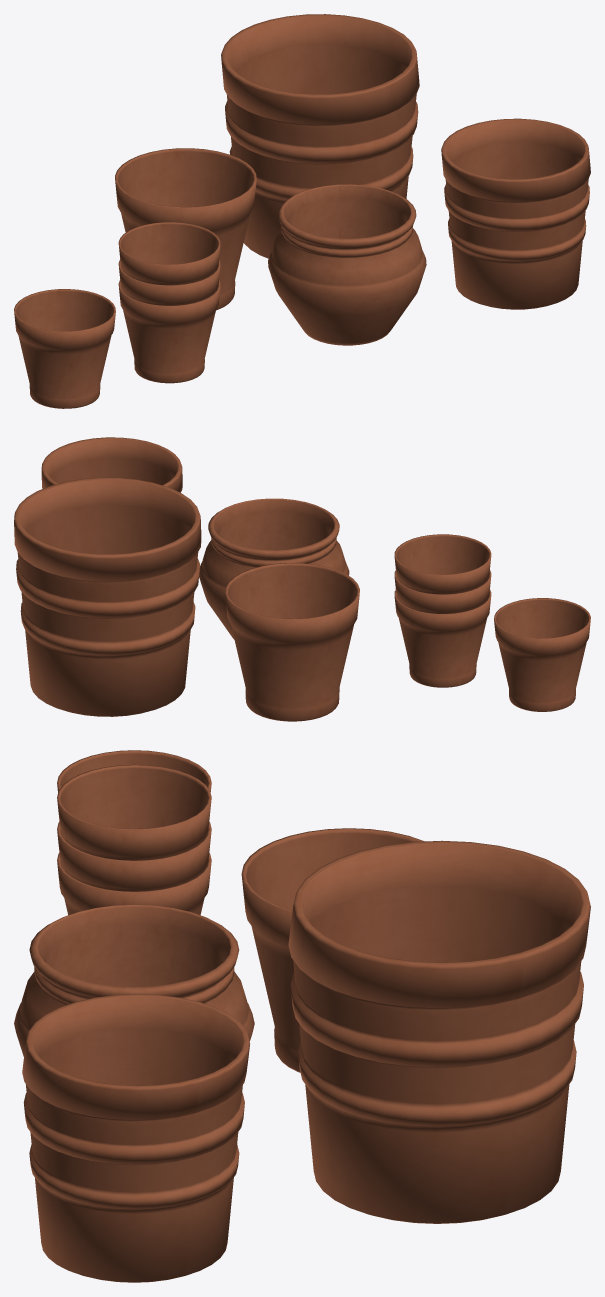
The picture shows the model from 3 angles, top to bottom: view 1: azimuth 30°, elevation 25°; view 2: azimuth 150°, elevation 25°; view 3: azimuth 270°, elevation 25°; orthographic projection. The views are drawn at different scales.
Visible parts, largest first — view 1: medium-large_3, Cylinder_0, round_4, small-stacked_5, medium_2, small_1; view 2: medium-large_3, medium_2, small-stacked_5, round_4, small_1, Cylinder_0; view 3: medium-large_3, Cylinder_0, small-stacked_5, round_4, medium_2, small_1.
Part boxes in pixels (left/top/right/bottom): medium-large_3: left=221, top=14, right=419, bottom=258; Cylinder_0: left=441, top=118, right=590, bottom=309; round_4: left=268, top=184, right=426, bottom=345; small-stacked_5: left=118, top=222, right=220, bottom=383; medium_2: left=115, top=148, right=256, bottom=310; small_1: left=14, top=289, right=115, bottom=408; medium-large_3: left=14, top=477, right=201, bottom=716; medium_2: left=225, top=563, right=359, bottom=721; small-stacked_5: left=394, top=534, right=491, bottom=687; round_4: left=199, top=498, right=349, bottom=639; small_1: left=494, top=598, right=590, bottom=711; Cylinder_0: left=41, top=437, right=182, bottom=492; medium-large_3: left=288, top=840, right=590, bottom=1223; Cylinder_0: left=22, top=994, right=249, bottom=1282; small-stacked_5: left=57, top=764, right=211, bottom=915; round_4: left=14, top=904, right=254, bottom=1056; medium_2: left=241, top=828, right=424, bottom=1072; small_1: left=57, top=750, right=211, bottom=792.
Size of the model in its own units: 1.98 by 0.6072 by 1.17.
1 material, 1 textured.
